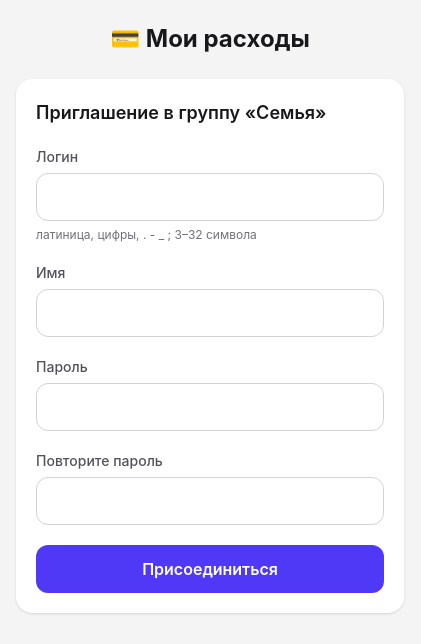
it: страница приглашения › разные пароли не отправляются
Type "anna" into the field labelled "Логин" at (210, 197), box [36, 173, 384, 221]
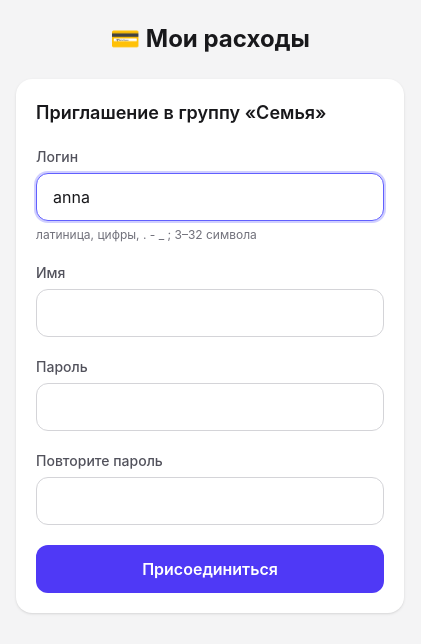
Type "secret-pass-1" into the password field labelled "Пароль" at (210, 407), box [36, 383, 384, 431]
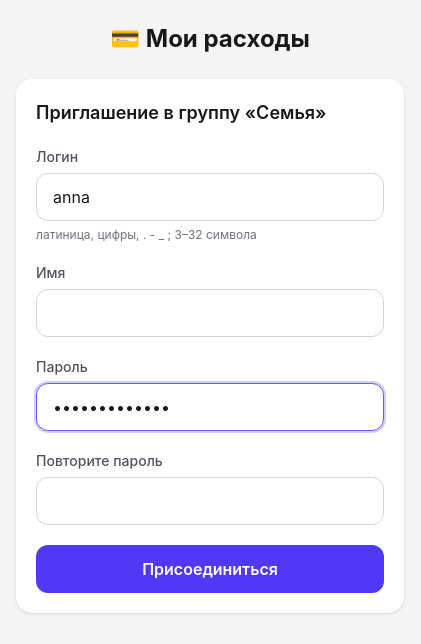
Type "другой-пароль" into the password field labelled "Повторите пароль" at (210, 501), box [36, 477, 384, 525]
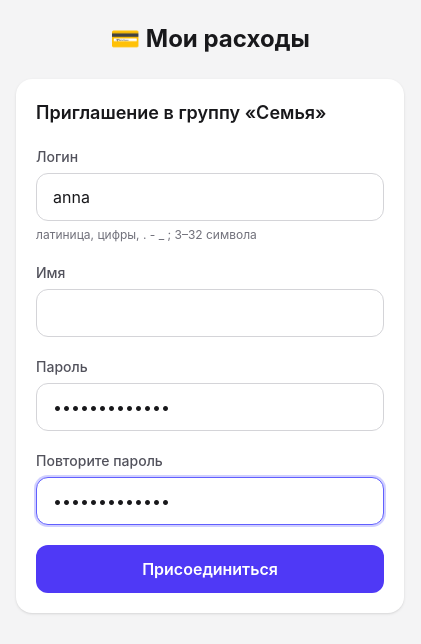
Click the button "Присоединиться" at (210, 569), box [36, 545, 384, 593]
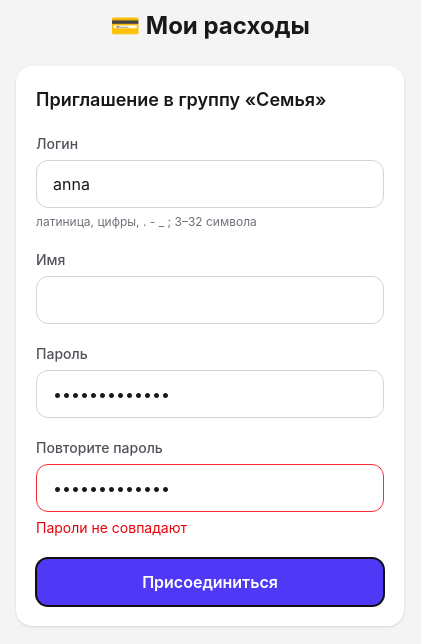
Check: the text "Пароли не совпадают" is shown, box [36, 519, 187, 536]
